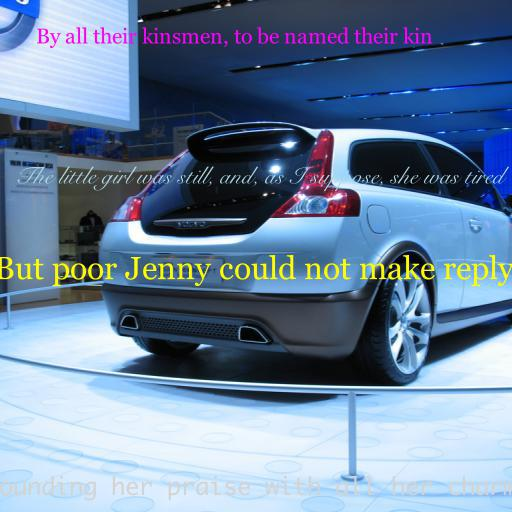Georgia: (0, 254, 512, 287), (35, 27, 433, 49)
Monaco: (0, 475, 512, 501)
Snell Roundhand: (14, 166, 504, 192)
